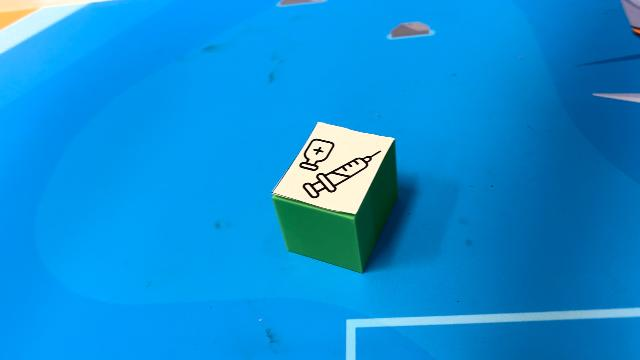syringe: (271, 121, 399, 273)
